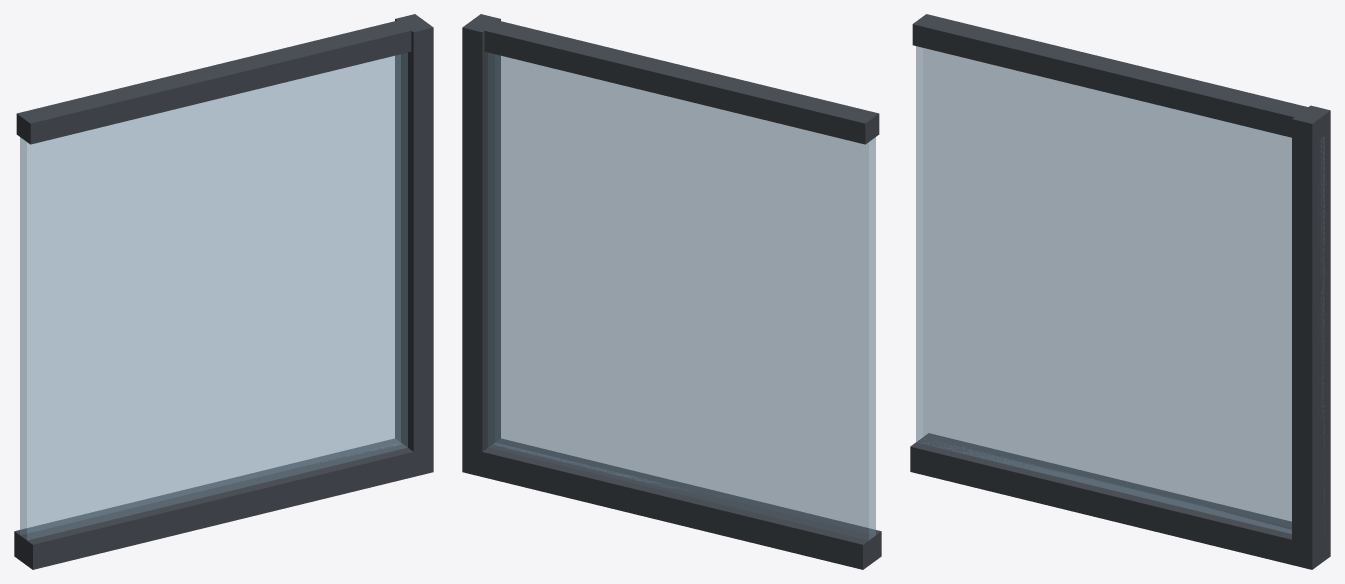
The model's file is glass_partition.glb.
The picture shows the model from 3 angles, left to right: view 1: azimuth 30°, elevation 25°; view 2: azimuth 150°, elevation 25°; view 3: azimuth 330°, elevation 25°; orthographic projection.
Parts seen in each view (by area): view 1: glass_partition_mesh; view 2: glass_partition_mesh; view 3: glass_partition_mesh.
Boxes of the visible parts, left/top/right/bottom form: glass_partition_mesh: left=14, top=14, right=433, bottom=569; glass_partition_mesh: left=462, top=14, right=881, bottom=569; glass_partition_mesh: left=910, top=14, right=1330, bottom=569.
Bounding box in the file's own units: 1 × 1.06 × 0.08.
